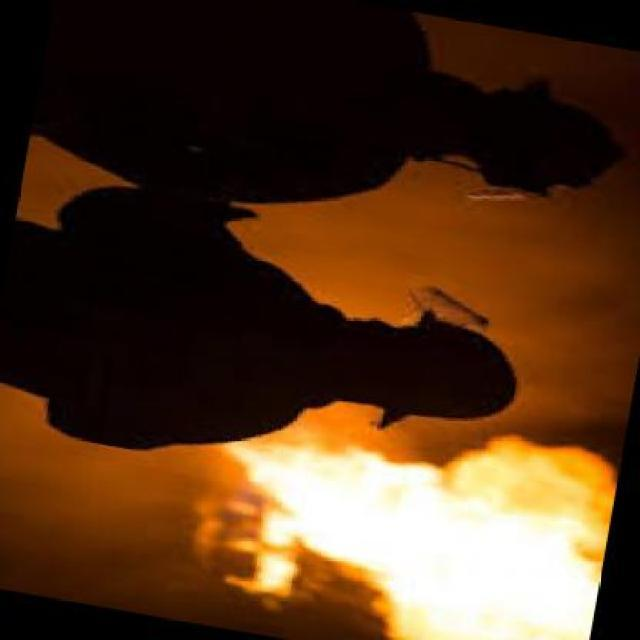Fire: (233, 429, 610, 640)
